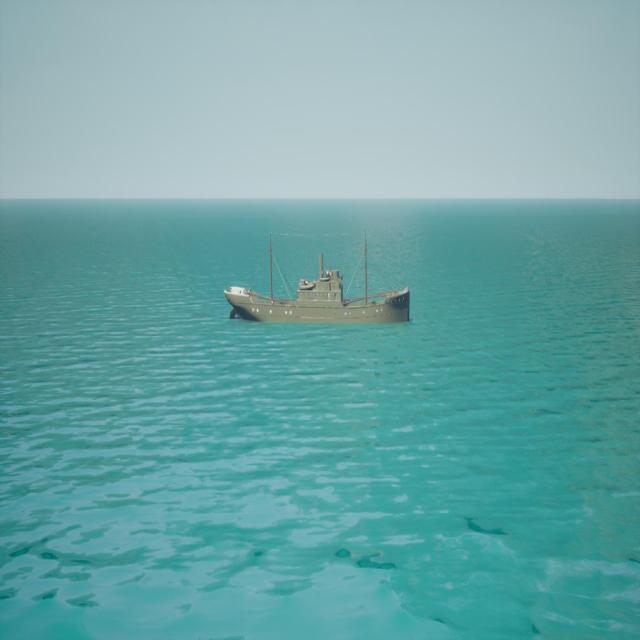fishing ship: (225, 233, 413, 325)
